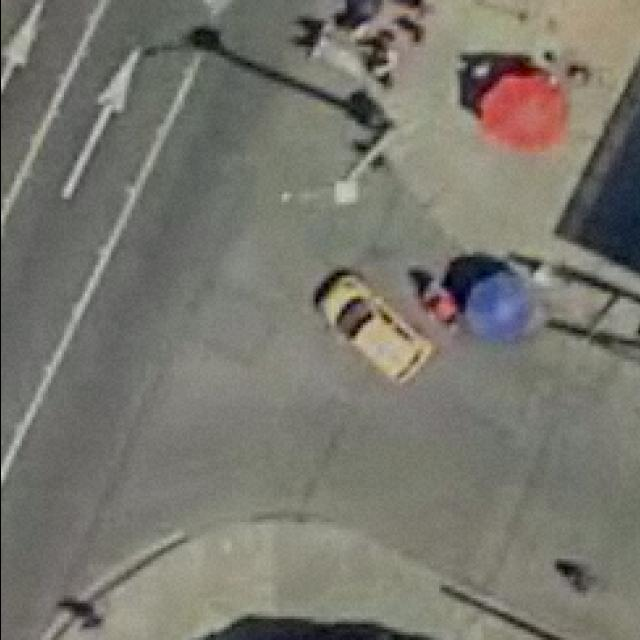vendedor_ambulante: (472, 64, 570, 156), (456, 264, 544, 346)
